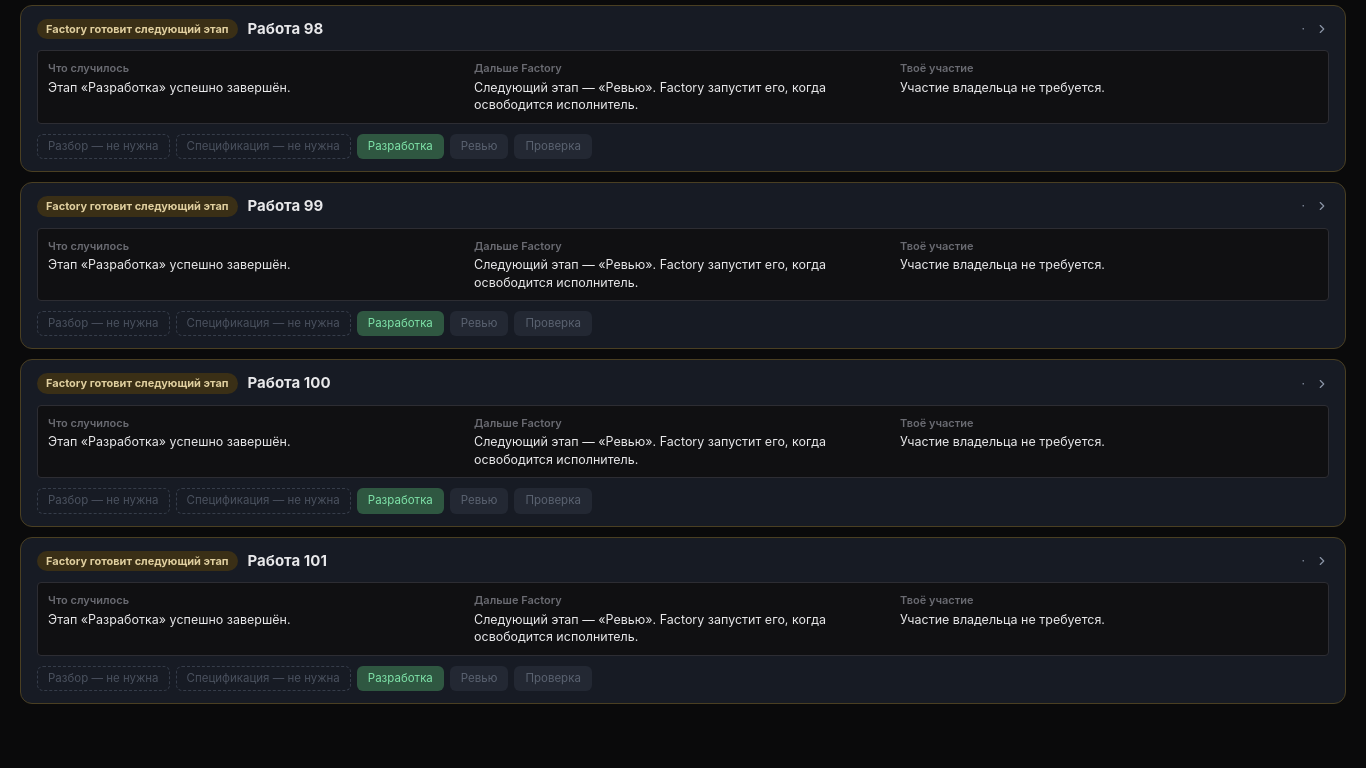
Test: loads and combines history for more than 100 tasks in batches
(page scrolled)
Click the text "Работа 101" at {"x": 287, "y": 561}, box [248,550,327,572]
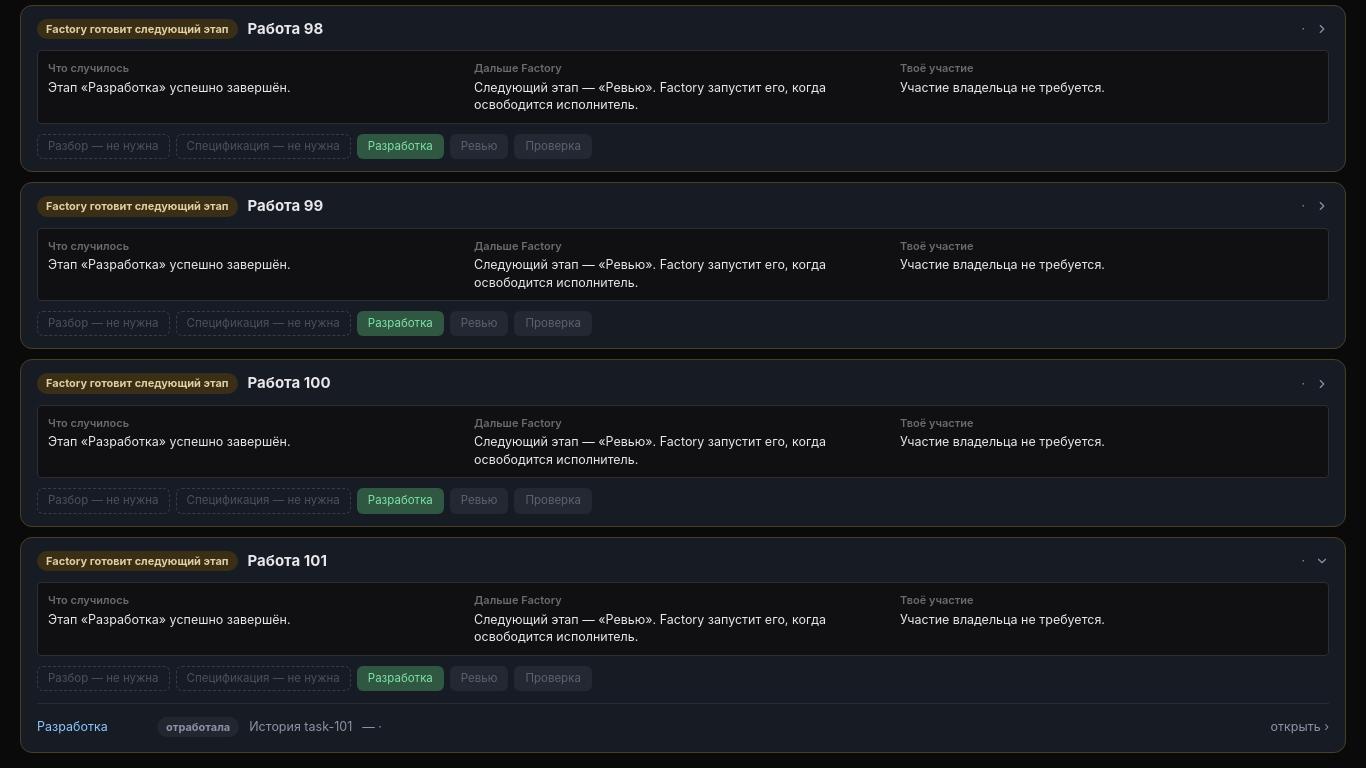
Check: the text "История task-101" is shown, box [249,718,352,736]
